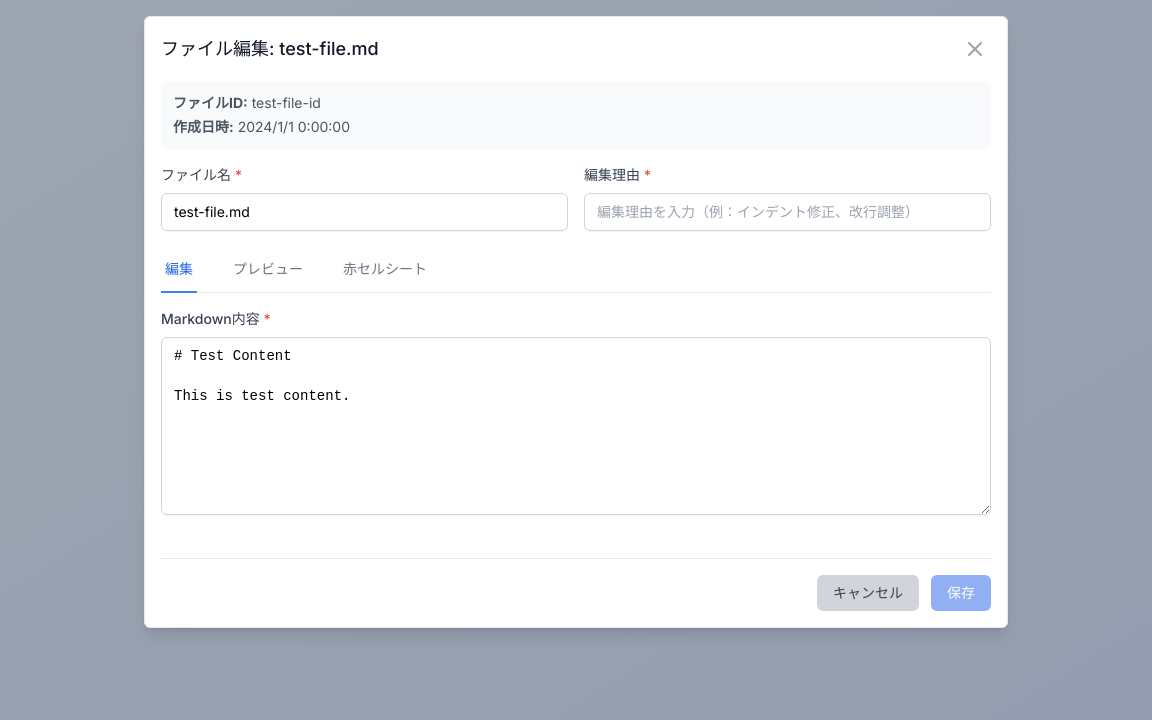
FileEditModal › 赤セルシートタブをクリックすると赤セルシート表示に切り替わる
// 赤セルシートタブをクリック
Click the button with test id "redacted-tab" at (385, 270), box [339,247,431,293]
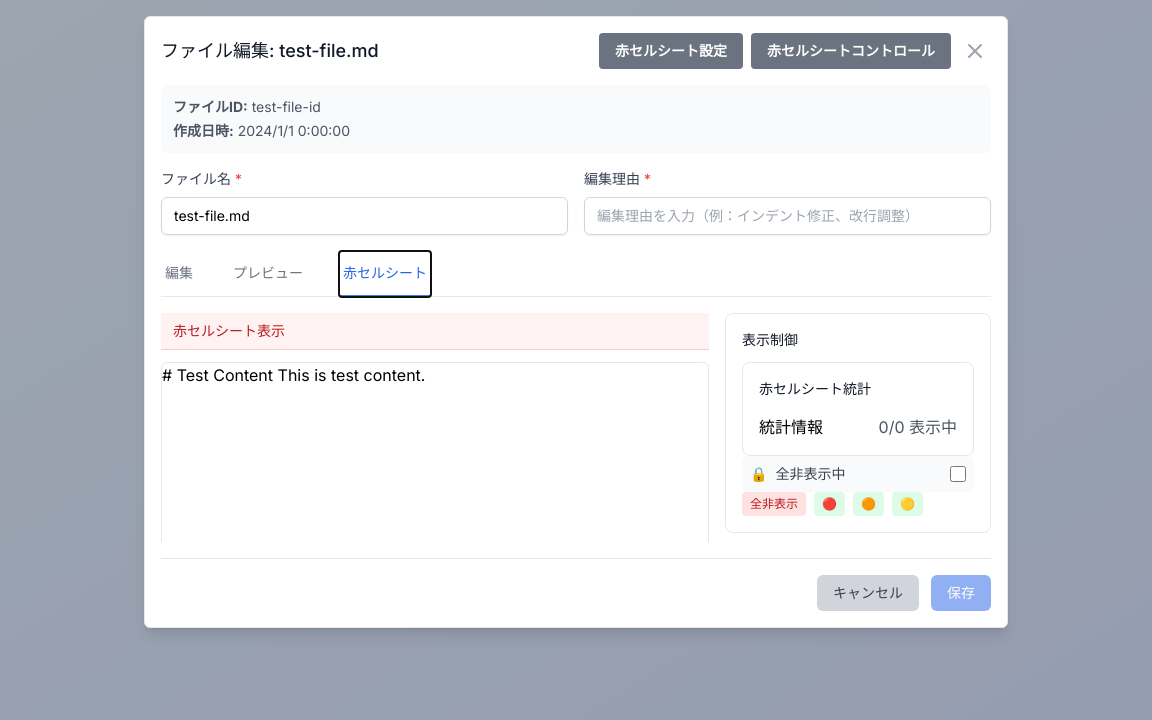
Expected: the heading "赤セルシート表示" is shown, [173,322,285,339]
Expected: the heading "表示制御" is shown, [742,331,798,348]
